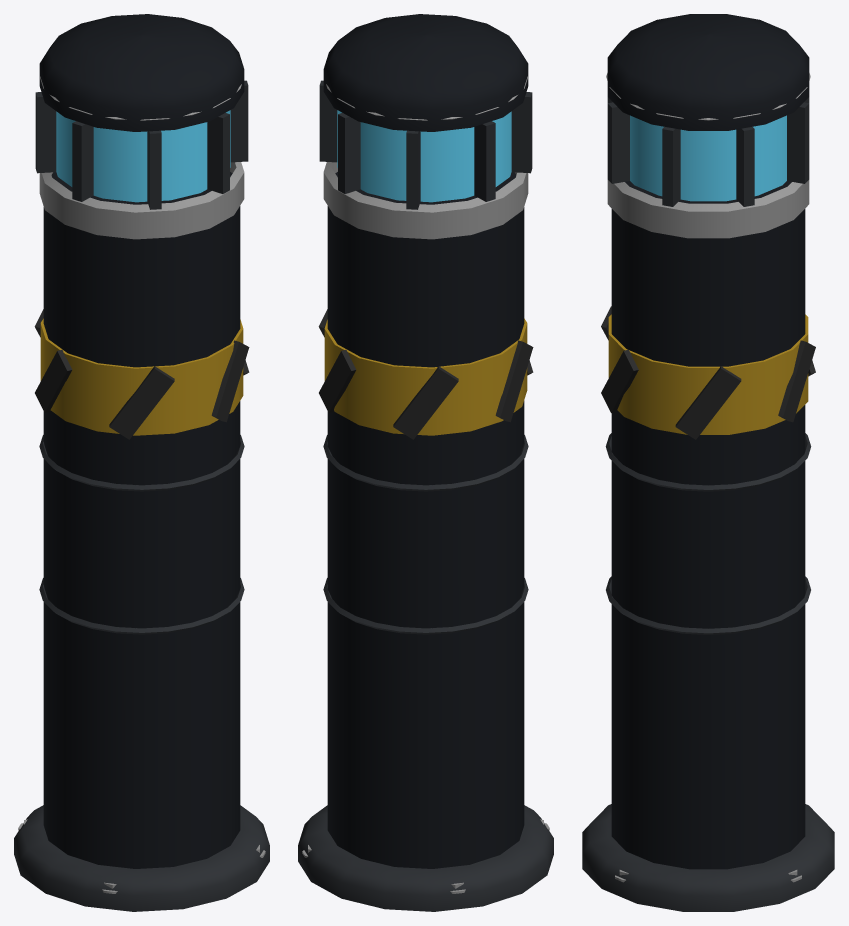
File: Bollard.fbx
3 renders of one model, left to right at view 1: azimuth 30°, elevation 25°; view 2: azimuth 150°, elevation 25°; view 3: azimuth 270°, elevation 25°, orthographic.
Parts seen in each view (by area): view 1: Bollard_LOD0; view 2: Bollard_LOD0; view 3: Bollard_LOD0.
Part boxes in pixels (left/top/right/bottom): Bollard_LOD0: left=14, top=14, right=269, bottom=911; Bollard_LOD0: left=298, top=14, right=553, bottom=911; Bollard_LOD0: left=582, top=14, right=834, bottom=911.
Size of what is drawn, in the model's own units: 0.255 by 0.92 by 0.255.
